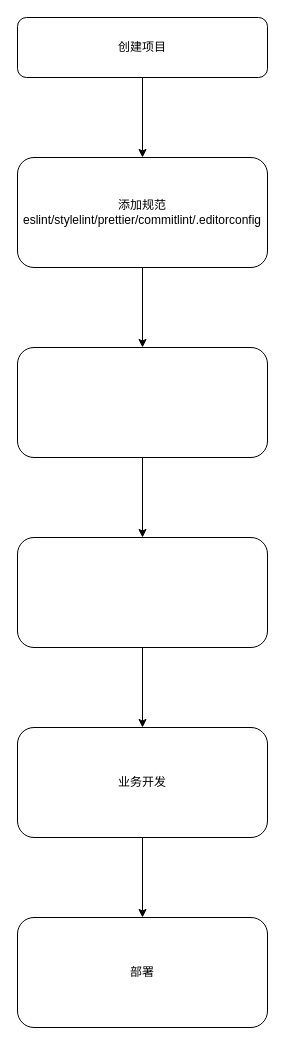
Image size: 285x1045. Some labels were removed from this diagram. Each missing label, with the centre of its shape:
内部架构，基础组件搭建: the point at 142,592
环境区分/引入全局部件: the point at 142,402
